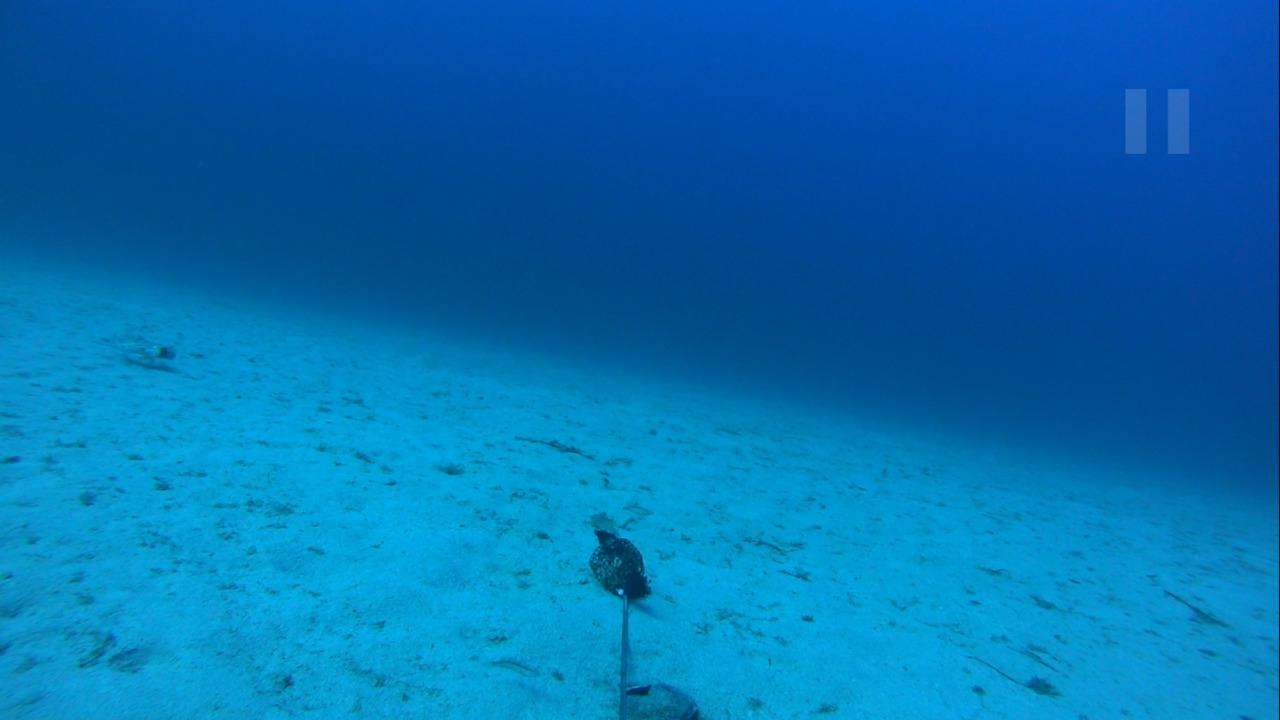dactylopterus: (103, 329, 175, 367)
